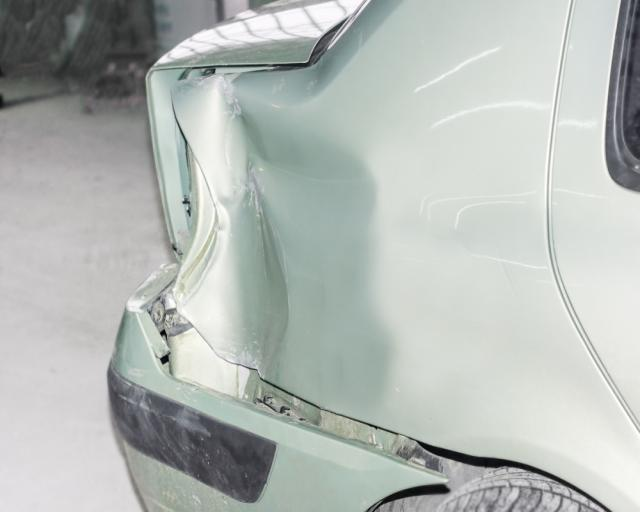dent: (196, 83, 397, 408)
